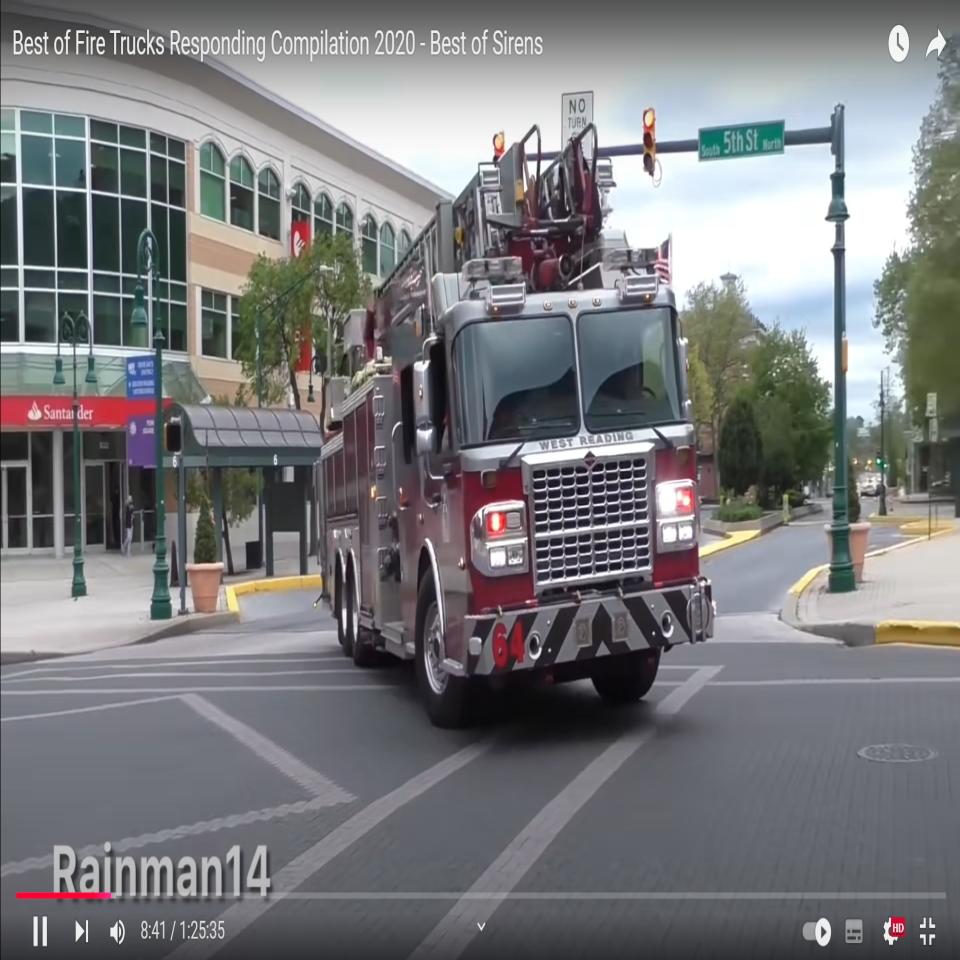viatura: (311, 124, 716, 732)
